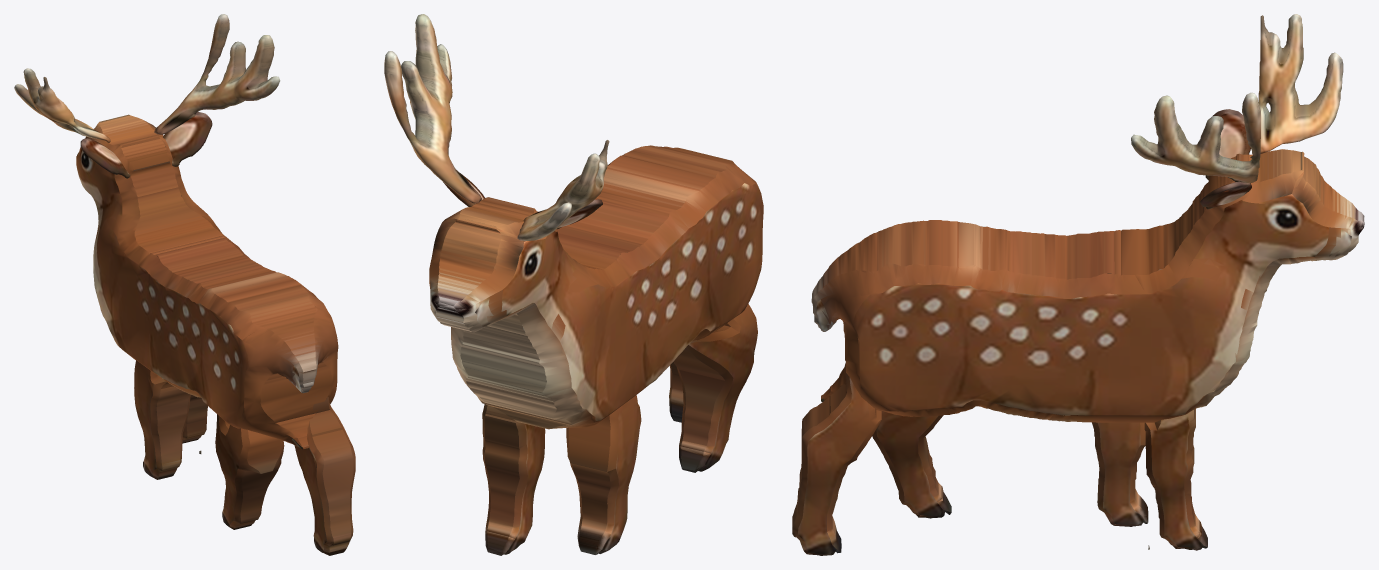
File: Deer.glb
3 renders of one model, left to right at view 1: azimuth 30°, elevation 25°; view 2: azimuth 150°, elevation 25°; view 3: azimuth 270°, elevation 25°, orthographic. The views are drawn at different scales.
Parts seen in each view (by area): view 1: Body, LegBR, LegBL, LegFL, LegFR; view 2: Body, LegBL, LegFL, LegFR, LegBR; view 3: Body, LegBR, LegFR, LegBL, LegFL.
Boxes of the visible parts, bbox=[...] form: Body: bbox=[14, 14, 338, 449]; LegBR: bbox=[294, 395, 355, 555]; LegBL: bbox=[215, 414, 284, 529]; LegFL: bbox=[134, 360, 190, 479]; LegFR: bbox=[182, 395, 207, 453]; Body: bbox=[384, 14, 763, 429]; LegBL: bbox=[673, 304, 757, 472]; LegFL: bbox=[566, 395, 641, 554]; LegFR: bbox=[482, 404, 545, 555]; LegBR: bbox=[669, 362, 683, 422]; Body: bbox=[811, 14, 1364, 422]; LegBR: bbox=[792, 373, 881, 555]; LegFR: bbox=[1144, 409, 1207, 550]; LegBL: bbox=[872, 411, 951, 518]; LegFL: bbox=[1092, 422, 1148, 526].
Size of the model in its own units: 4.62 by 8.99 by 9.3.
1 material, 1 textured.
